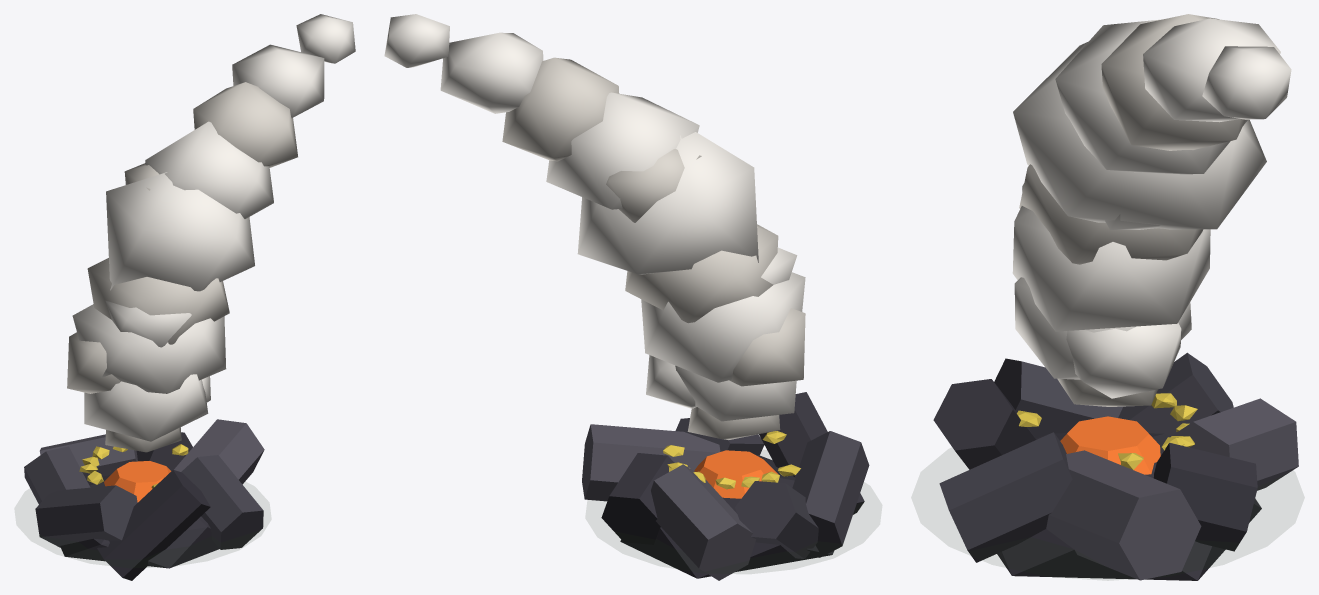
Rendered from ember_vent.glb.
3 renders of one model, left to right at view 1: azimuth 30°, elevation 25°; view 2: azimuth 150°, elevation 25°; view 3: azimuth 270°, elevation 25°, orthographic. The views are drawn at different scales.
Visible parts, largest first — view 1: ember_vent; view 2: ember_vent; view 3: ember_vent.
Part boxes in pixels (bbox=[...]): ember_vent: bbox=[24, 14, 355, 580]; ember_vent: bbox=[384, 14, 869, 580]; ember_vent: bbox=[933, 14, 1298, 580].
Size of the model in its own units: 1.57 by 1.84 by 0.96.
